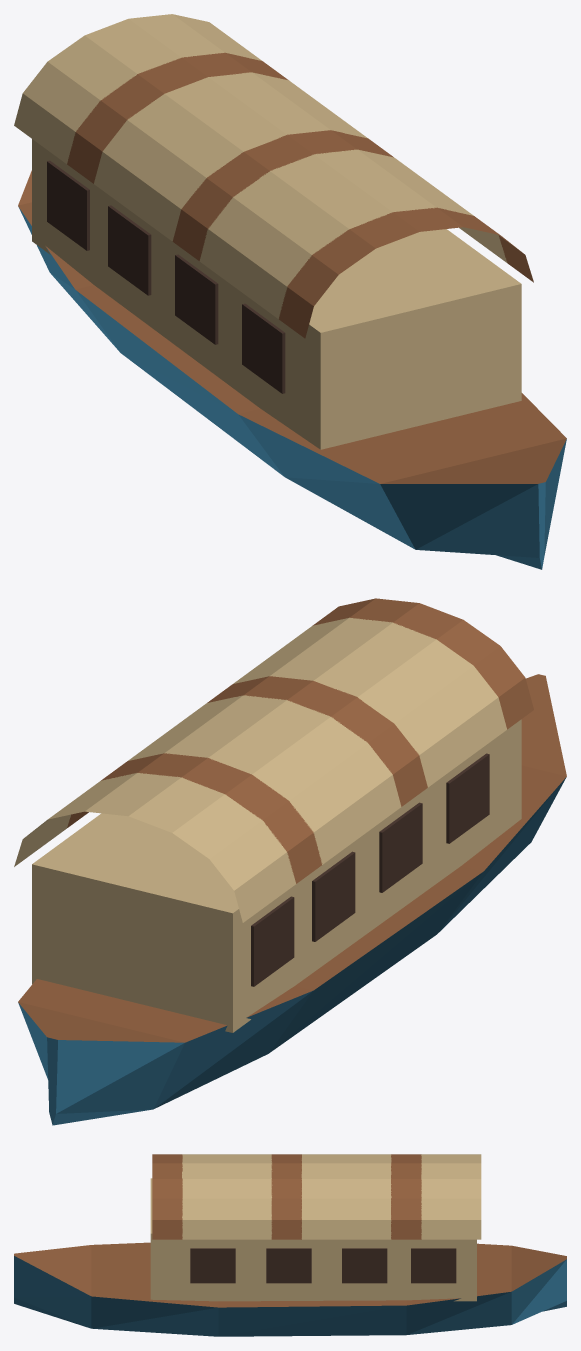
Rendered from 023_kettuvallam_houseboat.glb.
The picture shows the model from 3 angles, top to bottom: view 1: azimuth 30°, elevation 25°; view 2: azimuth 150°, elevation 25°; view 3: azimuth 270°, elevation 25°; orthographic projection. The views are drawn at different scales.
Visible parts, largest first — view 1: Kettuvallam houseboat; view 2: Kettuvallam houseboat; view 3: Kettuvallam houseboat.
Part boxes in pixels (x1=…): Kettuvallam houseboat: x1=14, y1=14, x2=566, y2=569; Kettuvallam houseboat: x1=14, y1=598, x2=566, y2=1125; Kettuvallam houseboat: x1=14, y1=1154, x2=566, y2=1336.
Size of the model in its own units: 2.9 by 3.18 by 10.
